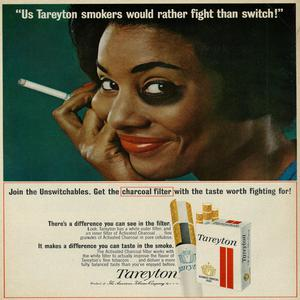cigarette: (16, 78, 76, 102)
